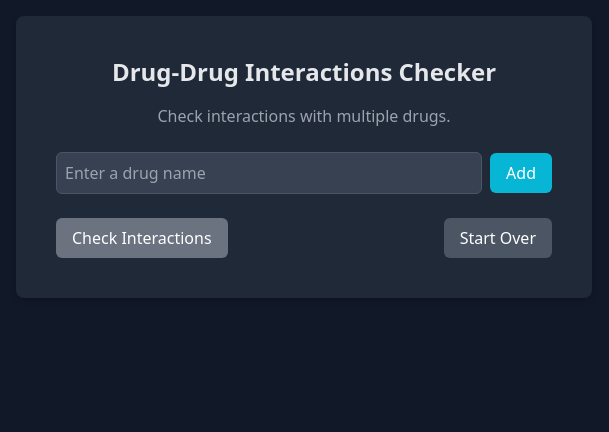
Scenario: MedicationInputForm Component › adds a drug to the list when "Add" button is clicked
Step 1. Type "Aspirin" into the field with placeholder "Enter a drug name" → (269,173), box [56,152,482,194]
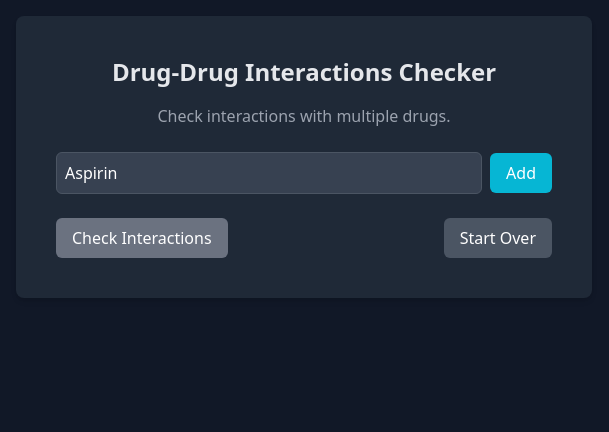
Step 2. Click the button "Add" → (521,173), box [490,153,552,193]
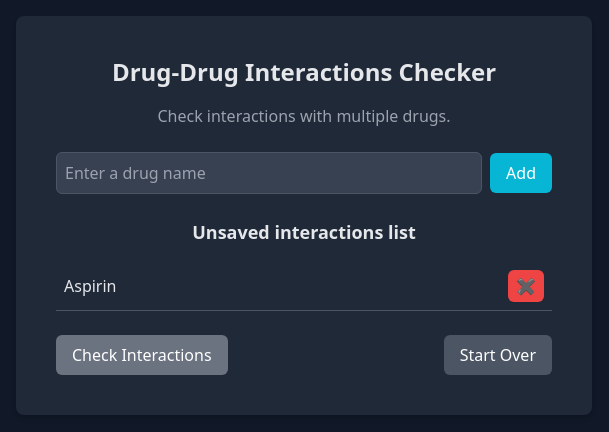
Expected: the list item "Aspirin" is shown, [64,275,116,297]
